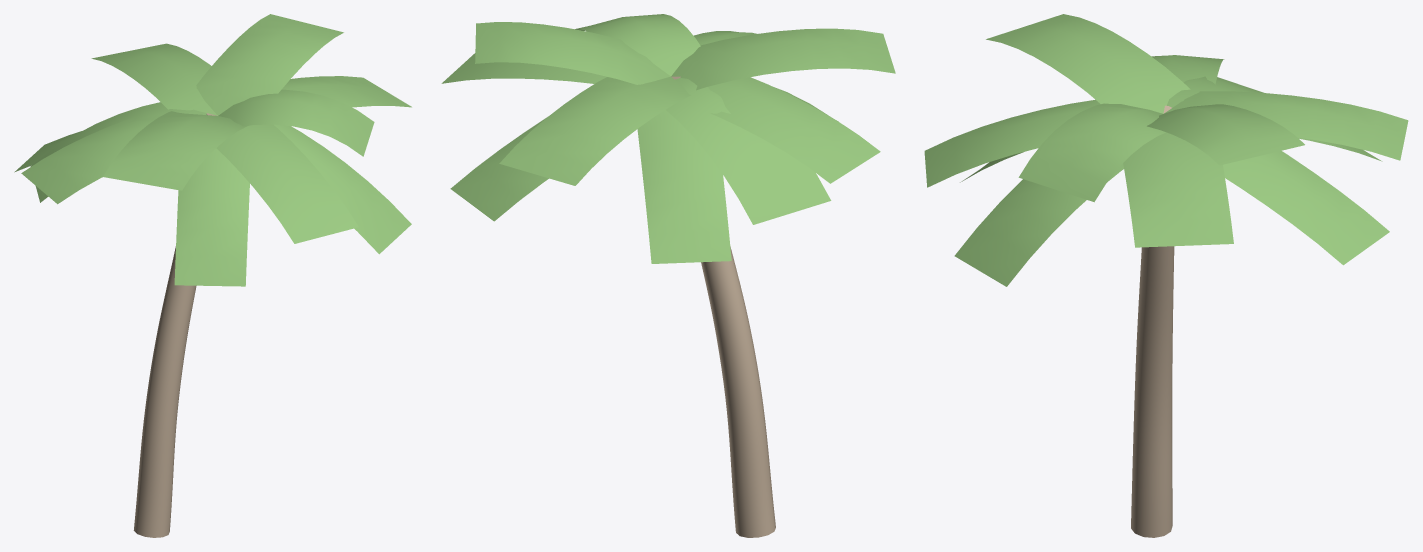
The model's file is palm_soft_a.glb.
3 views of the same model, side by side, from view 1: azimuth 30°, elevation 25°; view 2: azimuth 150°, elevation 25°; view 3: azimuth 270°, elevation 25° (orthographic). The views are drawn at different scales.
Visible parts, largest first — view 1: palm_soft_a, trunk; view 2: palm_soft_a, trunk; view 3: palm_soft_a, trunk.
Part boxes in pixels (x1=…): palm_soft_a: x1=14, y1=14, x2=411, y2=286; trunk: x1=133, y1=113, x2=217, y2=537; palm_soft_a: x1=441, y1=14, x2=895, y2=263; trunk: x1=671, y1=76, x2=775, y2=537; palm_soft_a: x1=924, y1=14, x2=1408, y2=286; trunk: x1=1131, y1=105, x2=1174, y2=537.
Bounding box in the file's own units: 5.88 × 6.79 × 6.
